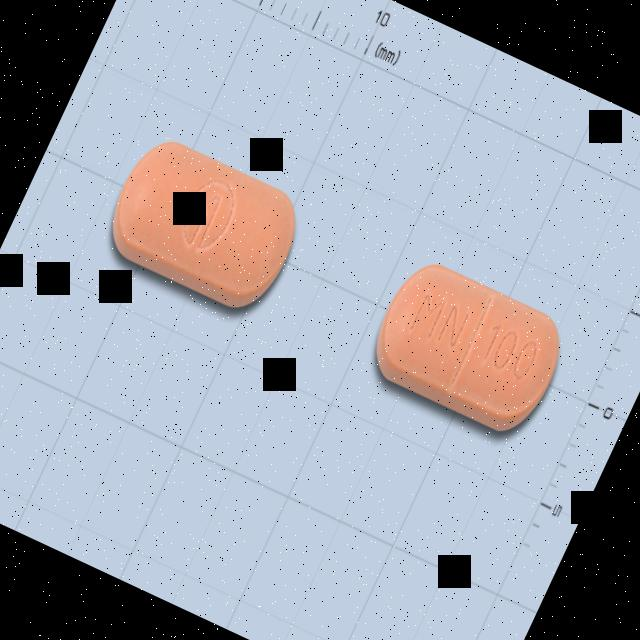Monocin: (360, 254, 576, 446), (96, 129, 312, 319)
